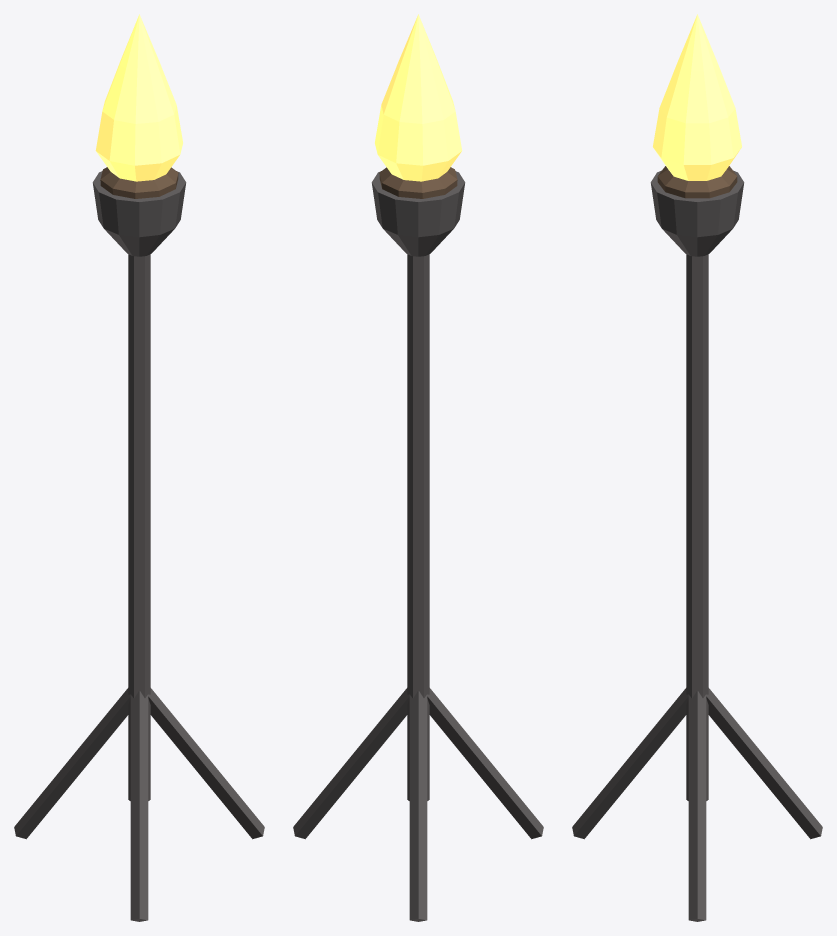
Rendered from torch-stand.glb.
3 views of the same model, side by side, from view 1: azimuth 30°, elevation 25°; view 2: azimuth 150°, elevation 25°; view 3: azimuth 270°, elevation 25° (orthographic).
Parts seen in each view (by area): view 1: torch-stand; view 2: torch-stand; view 3: torch-stand.
Part boxes in pixels (bbox=[...]): torch-stand: bbox=[14, 14, 264, 921]; torch-stand: bbox=[293, 14, 543, 921]; torch-stand: bbox=[572, 14, 822, 921].
Bounding box in the file's own units: 0.3214 × 1.37 × 0.3643.
